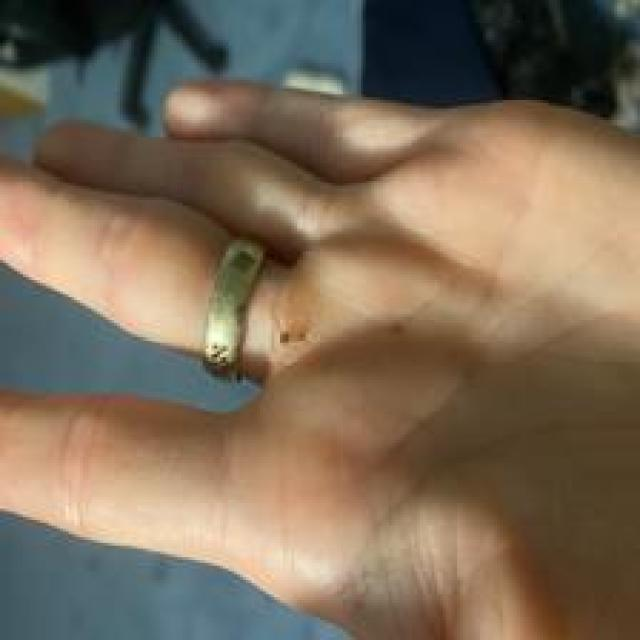Culex: (200, 236, 269, 384)
